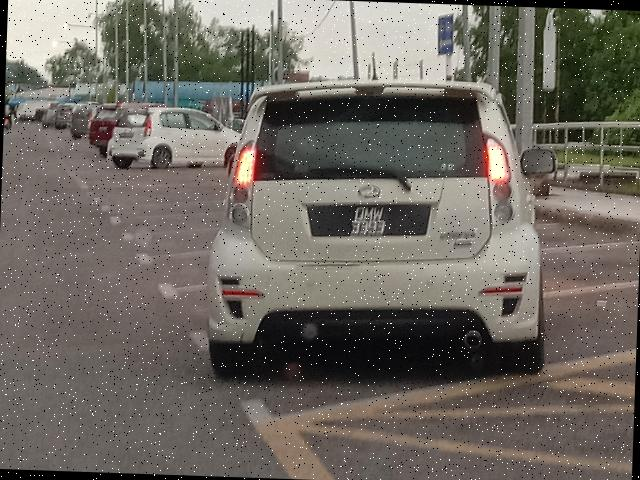License_Plate: (308, 201, 433, 240)
car: (217, 72, 559, 375)
